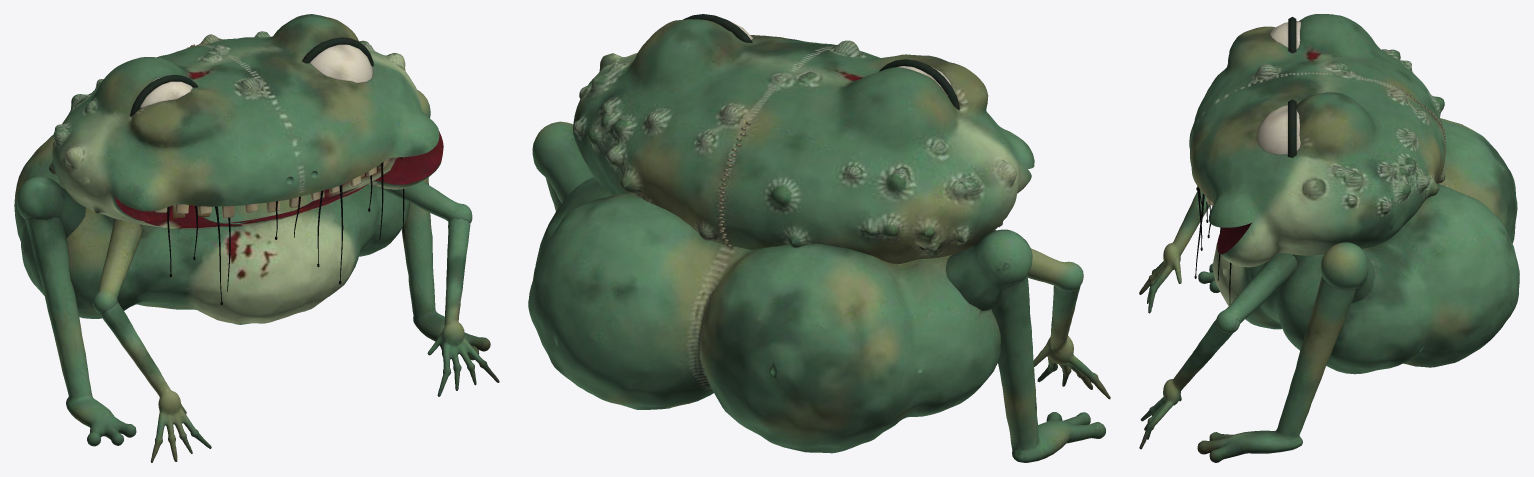
File: toad_1.glb
The picture shows the model from 3 angles, left to right: view 1: azimuth 30°, elevation 25°; view 2: azimuth 150°, elevation 25°; view 3: azimuth 270°, elevation 25°; orthographic projection. The views are drawn at different scales.
Parts seen in each view (by area): view 1: head, body, shin_R, shin_L, forearm_L, forearm_R, jaw, leg_R, arm_R, eye_L, arm_L, eye_R (+2 smaller); view 2: head, body, shin_R, leg_R, leg_L, forearm_R, arm_R; view 3: head, body, shin_L, arm_L, forearm_L, leg_L, forearm_R, eye_L, jaw, eye_R.
Boxes of the visible parts, left/top/right/bottom form: head: left=49, top=14, right=439, bottom=228; body: left=14, top=134, right=409, bottom=324; shin_R: left=25, top=216, right=136, bottom=446; shin_L: left=401, top=177, right=490, bottom=360; forearm_L: left=427, top=218, right=499, bottom=396; forearm_R: left=100, top=302, right=211, bottom=462; jaw: left=114, top=131, right=443, bottom=228; leg_R: left=16, top=176, right=85, bottom=237; arm_R: left=93, top=219, right=142, bottom=313; eye_L: left=310, top=44, right=372, bottom=82; arm_L: left=377, top=181, right=472, bottom=222; eye_R: left=140, top=77, right=192, bottom=107; head: left=573, top=14, right=1034, bottom=264; body: left=528, top=177, right=1000, bottom=453; shin_R: left=991, top=262, right=1105, bottom=462; leg_R: left=946, top=229, right=1032, bottom=310; leg_L: left=532, top=121, right=593, bottom=203; forearm_R: left=1033, top=285, right=1110, bottom=399; arm_R: left=1028, top=248, right=1083, bottom=291; head: left=1189, top=14, right=1445, bottom=266; body: left=1212, top=118, right=1519, bottom=374; shin_L: left=1197, top=276, right=1355, bottom=462; arm_L: left=1216, top=253, right=1297, bottom=333; forearm_L: left=1139, top=319, right=1240, bottom=449; leg_L: left=1321, top=242, right=1373, bottom=302; forearm_R: left=1139, top=190, right=1209, bottom=313; eye_L: left=1256, top=104, right=1300, bottom=154; jaw: left=1217, top=223, right=1252, bottom=267; eye_R: left=1269, top=21, right=1300, bottom=49.
Bounding box in the file's own units: 2.3 × 1.71 × 1.9.
Materials: 2 (1 with a texture image).
